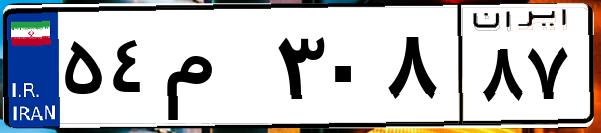0: (330, 28, 385, 110)
3: (270, 28, 330, 110)
4: (110, 28, 158, 98)
5: (57, 26, 110, 100)
7: (525, 38, 570, 115)
8: (385, 28, 445, 110), (475, 38, 525, 113)
م: (158, 20, 270, 120)
